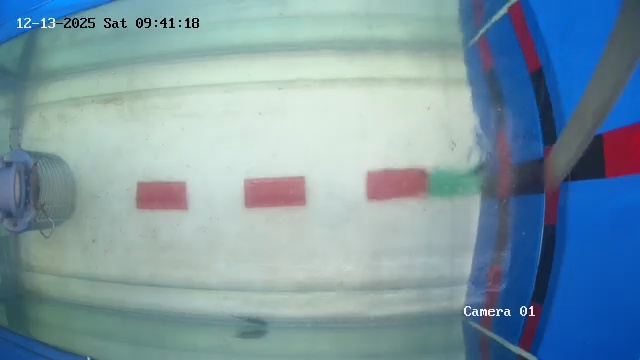fish: (233, 307, 273, 328)
